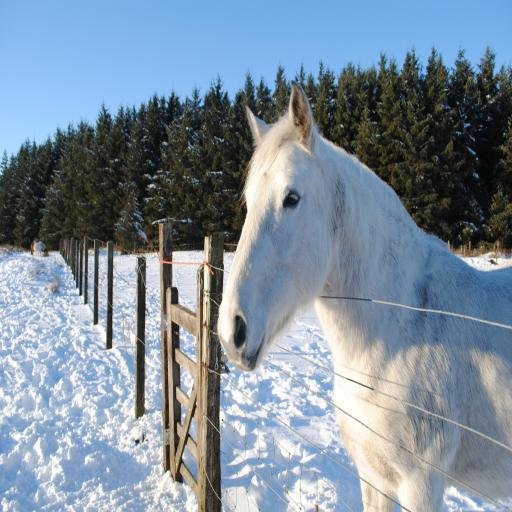Horse: (216, 76, 512, 512)
